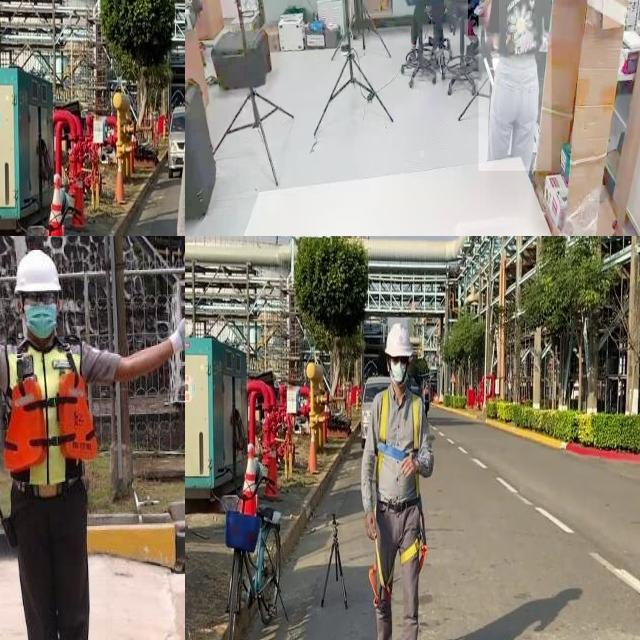Harness: (377, 389, 422, 472)
hand_noglove: (477, 0, 488, 17)
head_helmet: (15, 251, 63, 295)
person: (0, 246, 185, 640), (478, 0, 551, 171), (413, 0, 446, 73), (468, 0, 499, 36)
vest: (1, 339, 101, 487)
